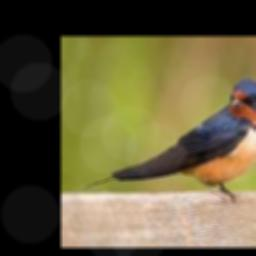Swallow: (84, 79, 256, 204)
